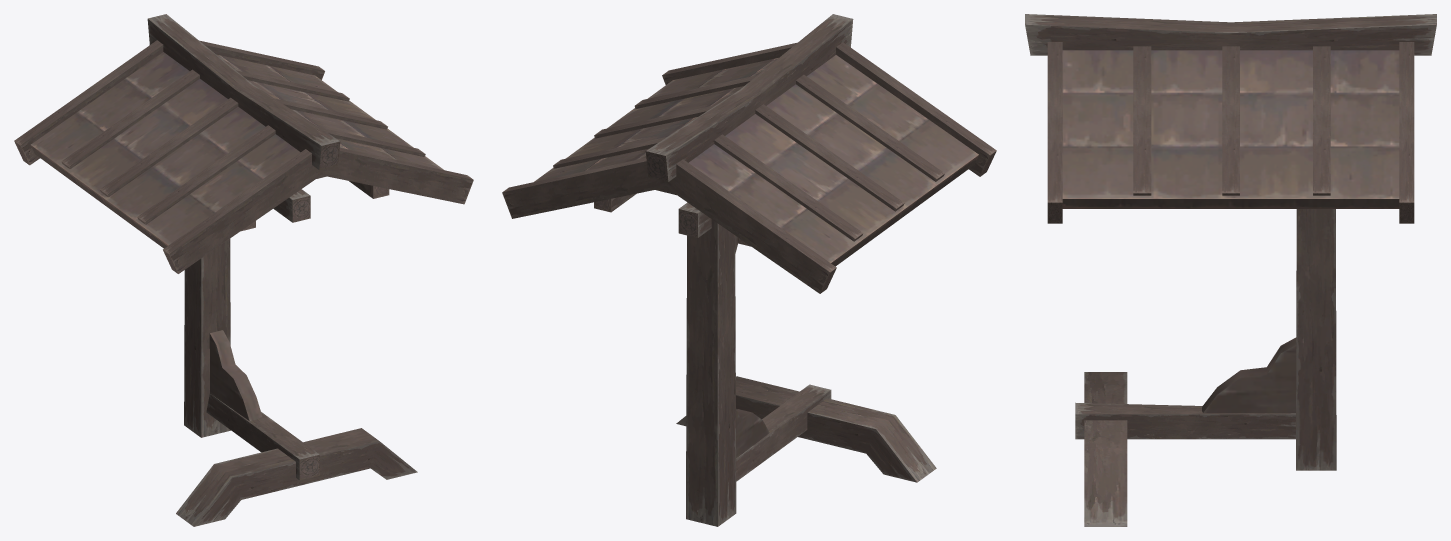
The model's file is Homeworld_Interior_Dq_Lamp_Lamp_04_Vo.fbx.
3 views of the same model, side by side, from view 1: azimuth 30°, elevation 25°; view 2: azimuth 150°, elevation 25°; view 3: azimuth 270°, elevation 25° (orthographic). The views are drawn at different scales.
Parts seen in each view (by area): view 1: Homeworld_Interior_Dq_Lamp_Lamp_04_Vo; view 2: Homeworld_Interior_Dq_Lamp_Lamp_04_Vo; view 3: Homeworld_Interior_Dq_Lamp_Lamp_04_Vo.
Part boxes in pixels (box(x1,y1,x2,y2)): Homeworld_Interior_Dq_Lamp_Lamp_04_Vo: box(14, 14, 473, 526); Homeworld_Interior_Dq_Lamp_Lamp_04_Vo: box(502, 14, 996, 526); Homeworld_Interior_Dq_Lamp_Lamp_04_Vo: box(1025, 14, 1436, 526).
Bounding box in the file's own units: 1.37 × 1.6 × 1.35.
